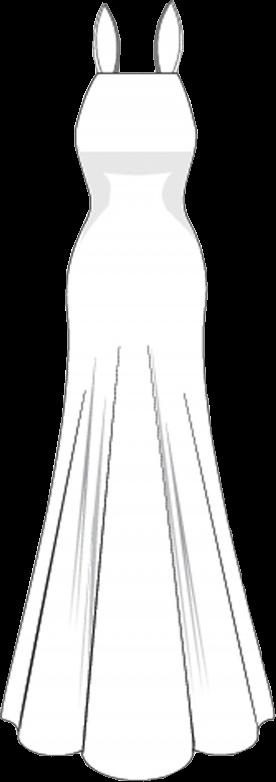Bodice: (74, 0, 197, 201)
Hemline: (0, 711, 275, 781)
Neckline: (97, 0, 183, 79)
Skirt: (0, 200, 275, 778)
